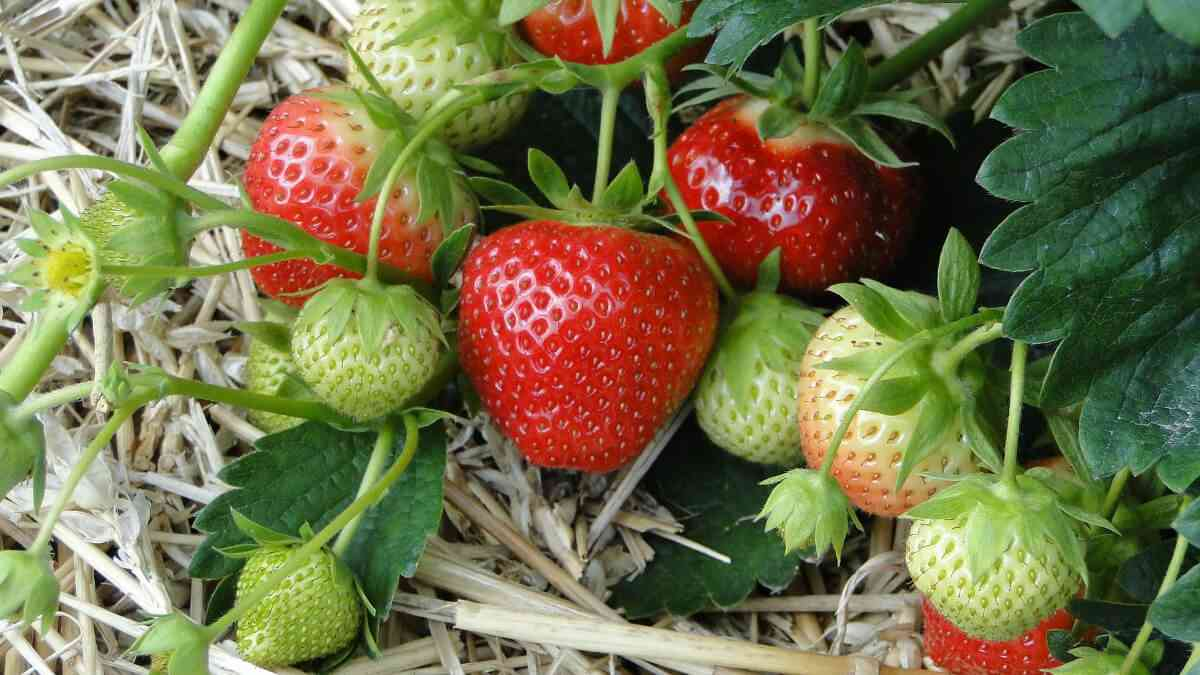ripe: (461, 213, 730, 483), (659, 102, 922, 304), (517, 0, 718, 93), (913, 576, 1082, 673)
unripe: (239, 75, 473, 311), (803, 271, 1012, 523), (904, 468, 1095, 638), (693, 285, 858, 469), (344, 2, 545, 147), (42, 177, 206, 311), (294, 272, 437, 421), (232, 532, 364, 662)
